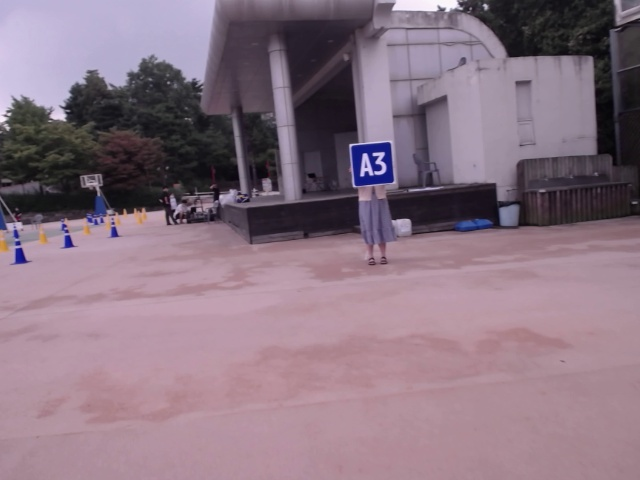delivery_a3: (350, 141, 395, 187)
